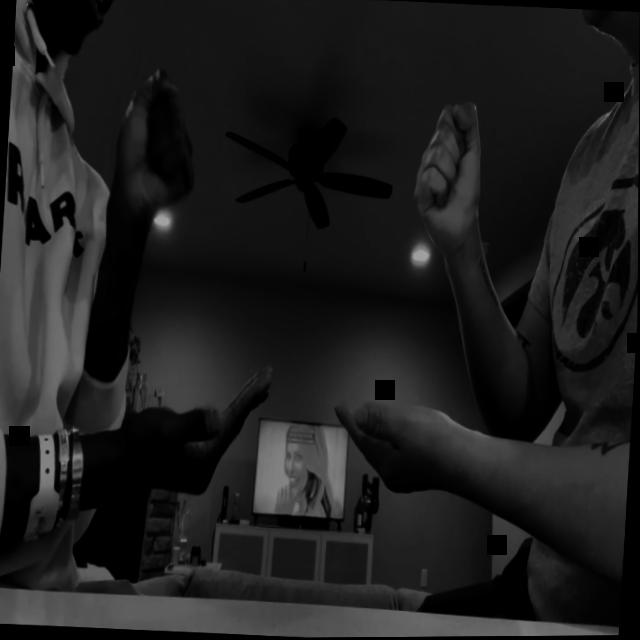Rock: (108, 62, 204, 228), (408, 94, 490, 262)
